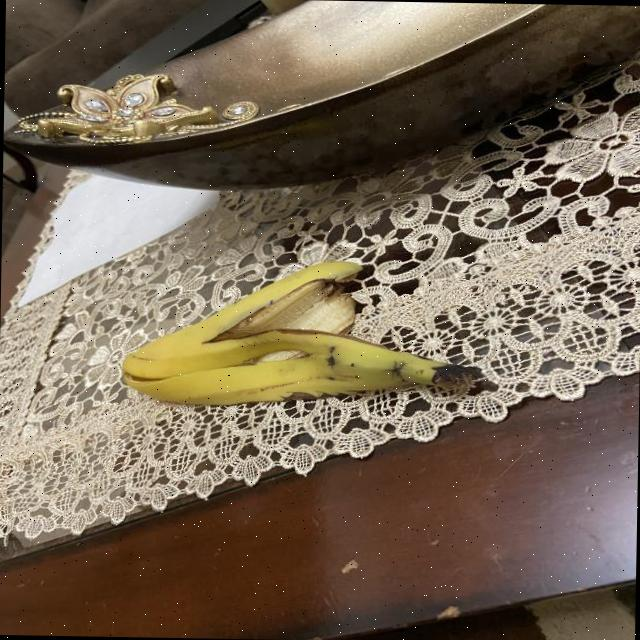banana-peel: (118, 254, 480, 410)
